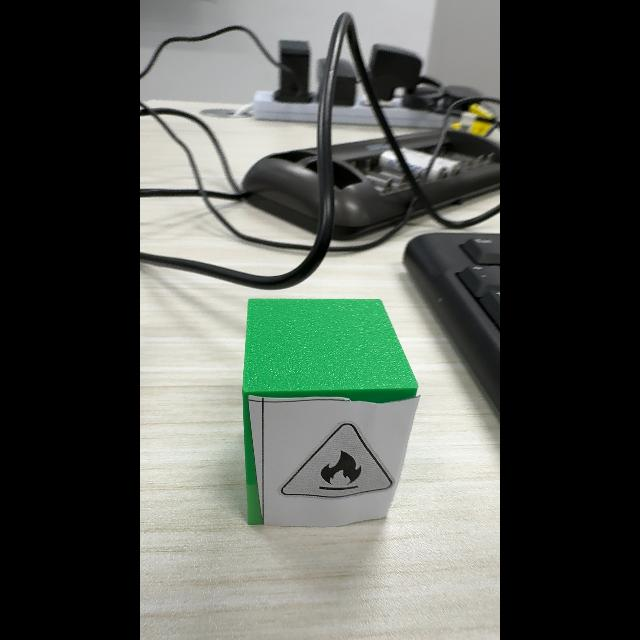Fire: (279, 423, 393, 499)
